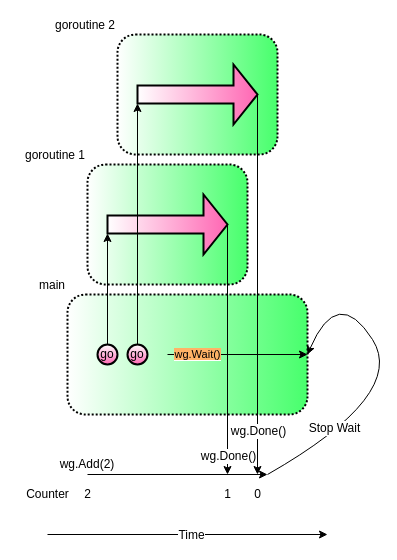
The diagram is 397 pixels wide and 560 high, and some of its shapes have lost their labels. The shapes that lost their labels are listed below. From the top down, each one's centre as x and y in pixels, then its label:
(197,94): say("hello")
(167,224): say("world")
